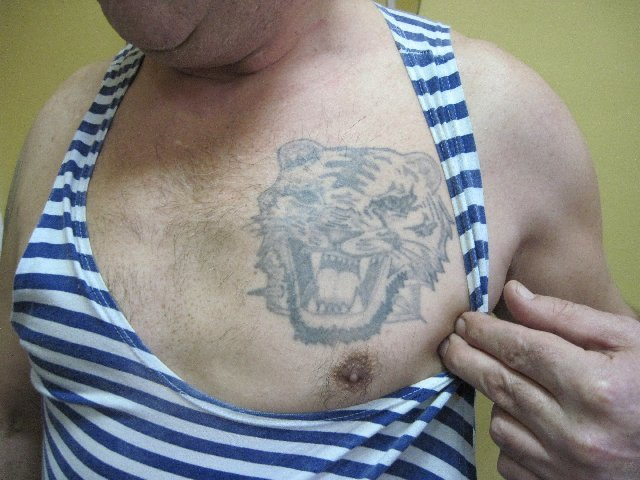tatu5_tigr: (244, 139, 459, 345)
